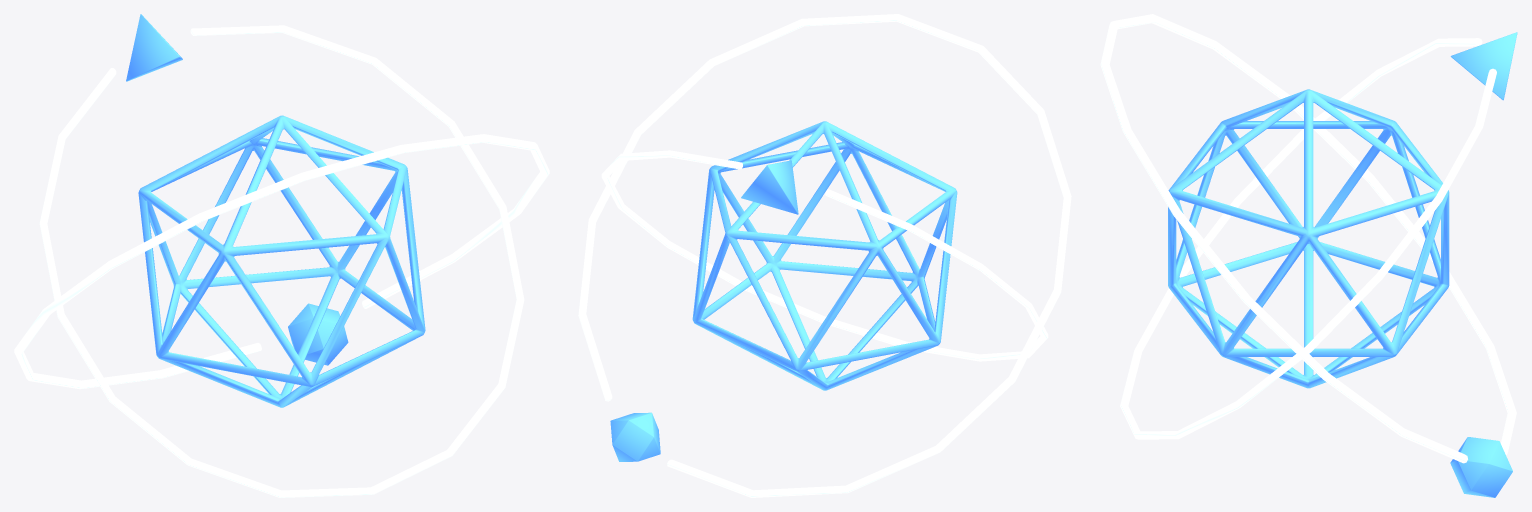
The model's file is laittes.fbx.
3 renders of one model, left to right at view 1: azimuth 30°, elevation 25°; view 2: azimuth 150°, elevation 25°; view 3: azimuth 270°, elevation 25°, orthographic. The views are drawn at different scales.
Visible parts, largest first — view 1: Icosphere, Torus, Torus.001; view 2: Icosphere, Torus.001, Torus; view 3: Icosphere, Torus.001, Torus.
Part boxes in pixels (<box>): Icosphere: <box>138,115,425,407</box>; Torus: <box>39,14,524,497</box>; Torus.001: <box>14,134,549,389</box>; Icosphere: <box>692,121,957,390</box>; Torus.001: <box>578,14,1071,497</box>; Torus: <box>601,150,1048,361</box>; Icosphere: <box>1168,89,1449,388</box>; Torus.001: <box>1100,14,1516,497</box>; Torus: <box>1120,32,1517,439</box>.
Bounding box in the file's own units: 364 × 263 × 260.
